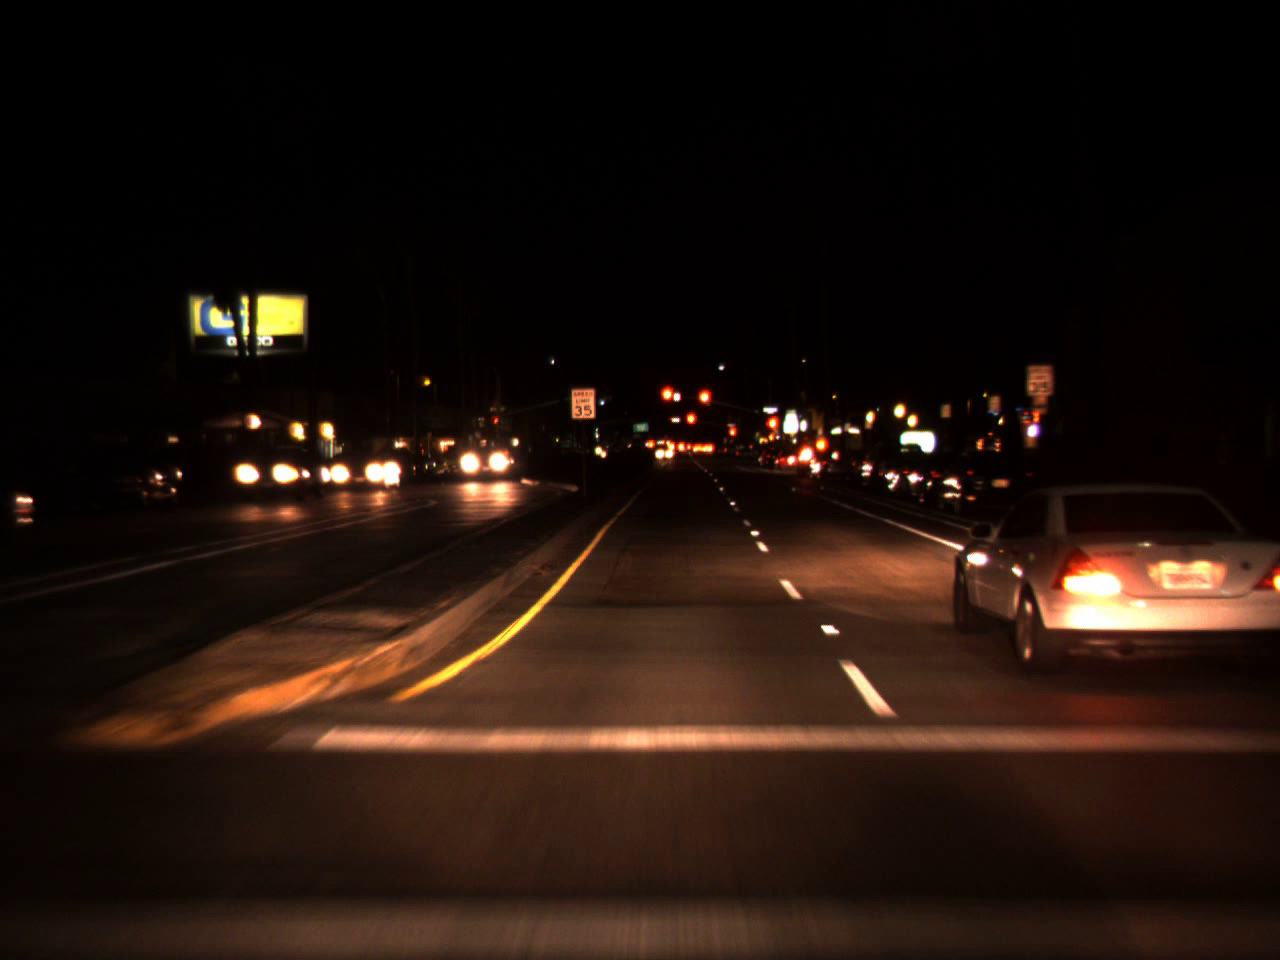stop: (763, 412, 781, 449), (659, 383, 677, 418), (696, 386, 712, 423), (684, 411, 697, 438), (728, 424, 737, 448), (493, 416, 499, 432)
